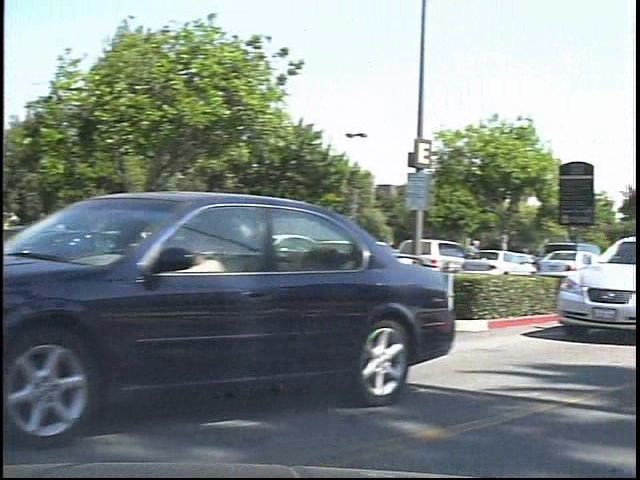person: (473, 232, 500, 286)
